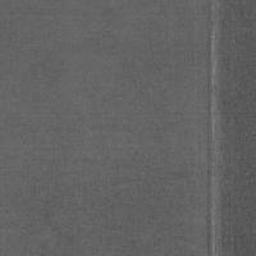Welding line: (204, 0, 215, 256)
